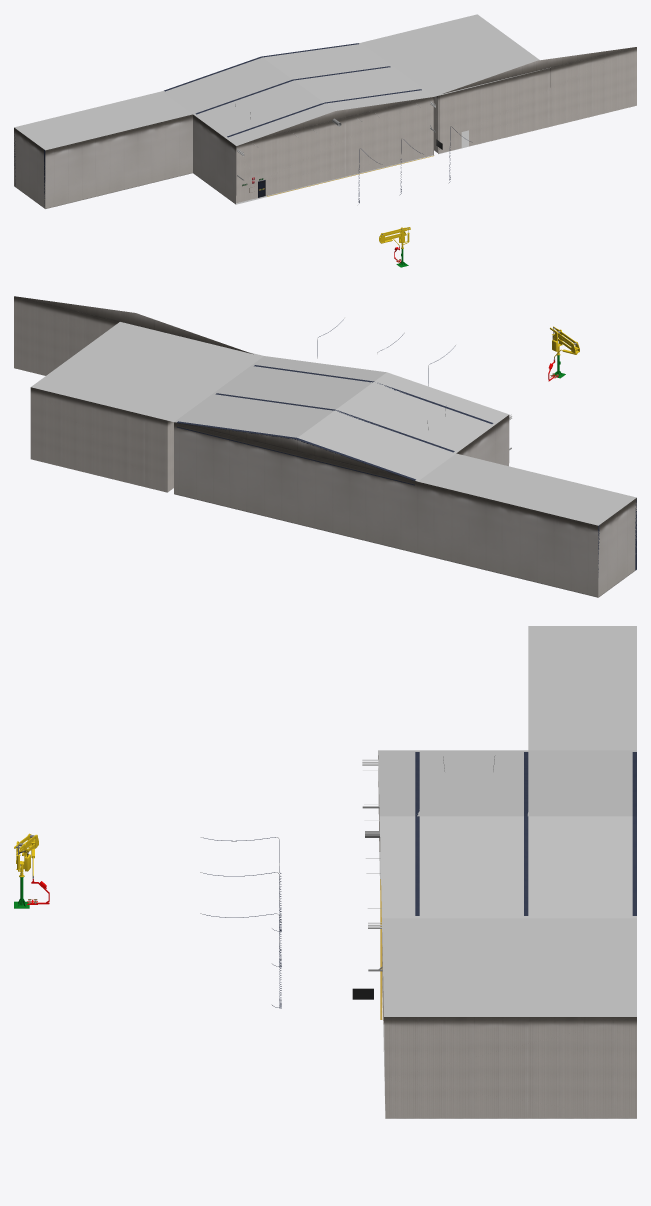
Rendered from hangar2.fbx.
The picture shows the model from 3 angles, top to bottom: view 1: azimuth 30°, elevation 25°; view 2: azimuth 150°, elevation 25°; view 3: azimuth 270°, elevation 25°; orthographic projection. The views are drawn at different scales.
Parts seen in each view (by area): view 1: Walls_duplicate, Close_hole_wall, Cut_Wall, polySurface8_duplicate, Robot; view 2: Walls_duplicate, Close_hole_wall, polySurface8_duplicate, Robot; view 3: Walls_duplicate, polySurface8_duplicate, Robot.
Part boxes in pixels (x1=…): Walls_duplicate: x1=14, y1=14, x2=550, y2=208; Close_hole_wall: x1=438, y1=47, x2=636, y2=153; Cut_Wall: x1=236, y1=97, x2=433, y2=202; polySurface8_duplicate: x1=14, y1=43, x2=435, y2=205; Robot: x1=379, y1=227, x2=410, y2=267; Walls_duplicate: x1=30, y1=322, x2=636, y2=597; Close_hole_wall: x1=14, y1=296, x2=253, y2=375; polySurface8_duplicate: x1=177, y1=365, x2=636, y2=572; Robot: x1=548, y1=326, x2=579, y2=381; Walls_duplicate: x1=378, y1=626, x2=636, y2=1118; polySurface8_duplicate: x1=362, y1=752, x2=636, y2=971; Robot: x1=14, y1=833, x2=49, y2=908.
Bounding box in the file's own units: 7418 × 935 × 4210.
